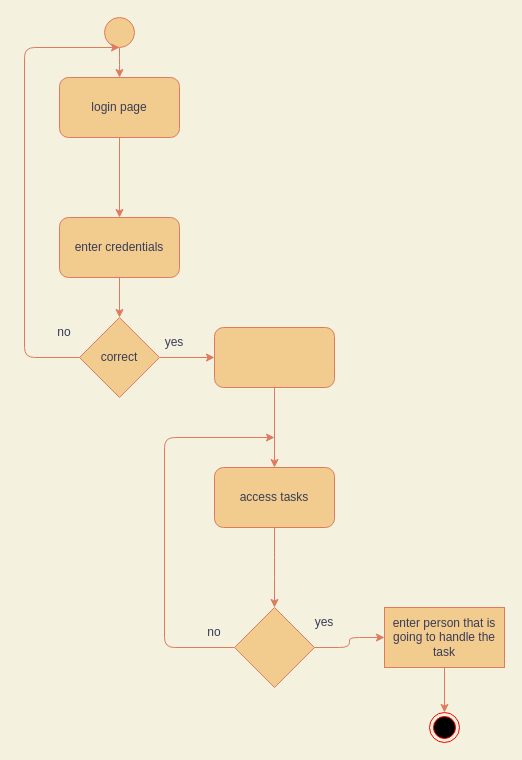
The diagram is 522 pixels wide and 760 high, and some of its shapes have lost their labels. Here are the shapes that lost their labels. From the top down, the centre of each, then its label:
At point (274, 357): "team leader dashboard".
At point (274, 647): "create task".
